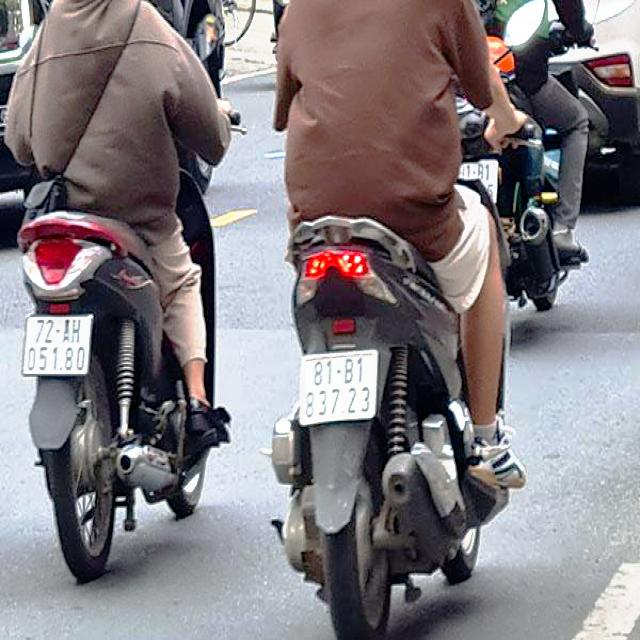license_plate: (303, 348, 379, 429), (25, 314, 93, 378)
